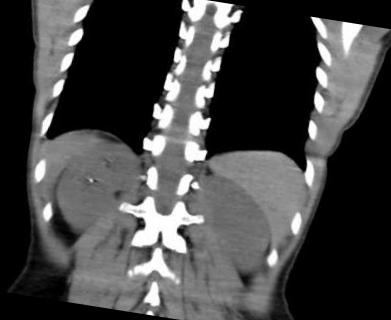Tas_Var: (84, 173, 96, 184)
